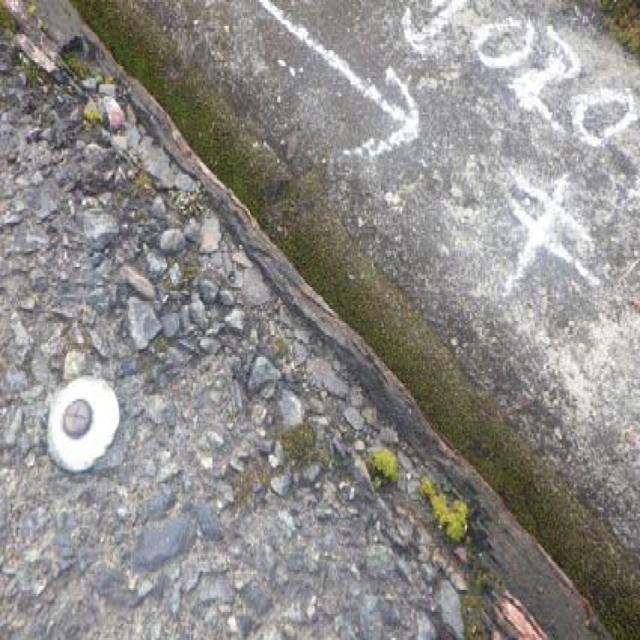corrosion: (106, 78, 357, 283)
